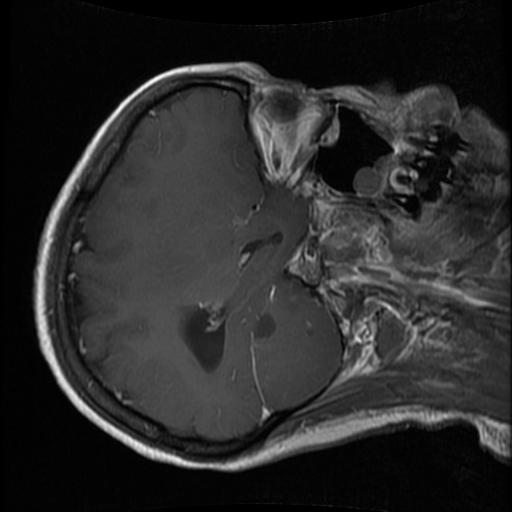glioma: (252, 315, 275, 338)
